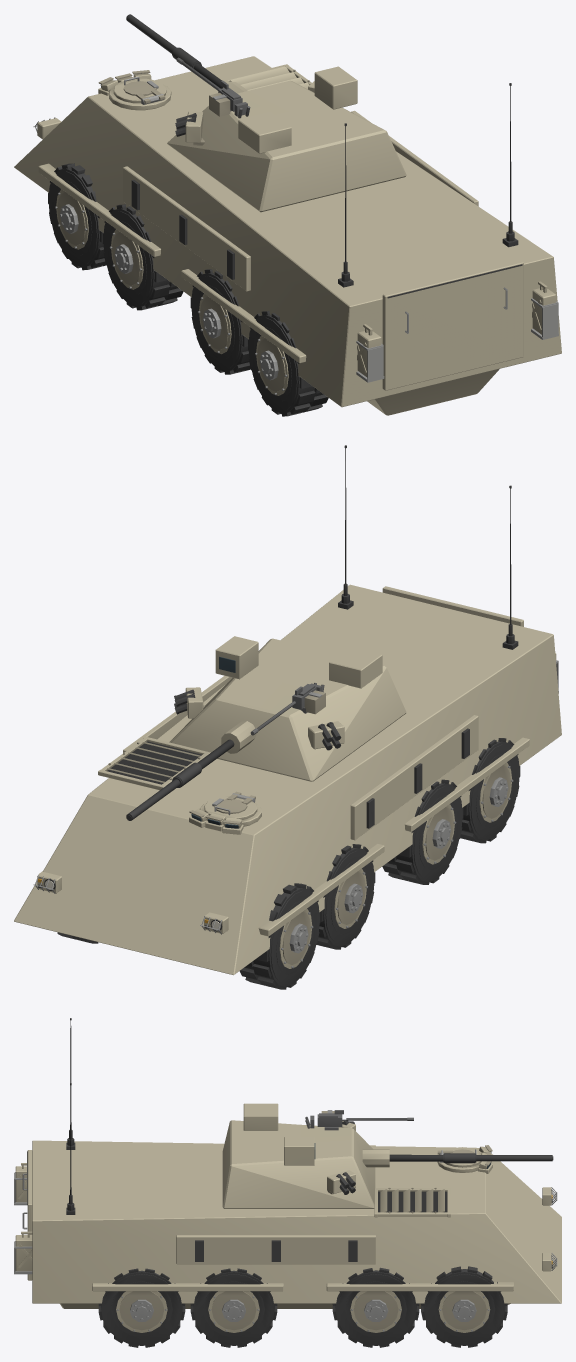
Rendered from usa_ifv_drag.glb.
3 views of the same model, one above another, from view 1: azimuth 30°, elevation 25°; view 2: azimuth 150°, elevation 25°; view 3: azimuth 270°, elevation 25° (orthographic). The views are drawn at different scales.
Parts seen in each view (by area): view 1: body, turret, door, wheel_2, wheel_6, wheel_0, wheel_4, barrel; view 2: body, turret, wheel_0, wheel_4, wheel_6, wheel_2, barrel, door; view 3: body, turret, wheel_1, wheel_3, wheel_5, wheel_7, barrel, door.
Boxes of the visible parts, box(x1,y1,x2,y2) form: body: box(14, 56, 561, 415); turret: box(167, 57, 406, 212); door: box(382, 261, 523, 390); wheel_2: box(102, 204, 183, 310); wheel_6: box(248, 311, 328, 416); wheel_0: box(48, 163, 106, 270); wheel_4: box(190, 269, 250, 374); barrel: box(126, 14, 247, 93); body: box(14, 445, 561, 975); turret: box(169, 636, 406, 781); wheel_0: box(239, 883, 320, 989); wheel_4: box(382, 779, 463, 884); wheel_6: box(460, 738, 520, 843); wheel_2: box(316, 844, 375, 949); barrel: box(126, 721, 256, 820); door: box(382, 586, 523, 626); body: box(14, 1018, 561, 1308); turret: box(222, 1103, 413, 1208); wheel_1: box(421, 1266, 507, 1347); wheel_3: box(332, 1267, 419, 1347); wheel_5: box(190, 1268, 277, 1347); wheel_7: box(98, 1268, 185, 1347); barrel: box(362, 1149, 553, 1167); door: box(22, 1150, 32, 1280).
Size of the model in its own units: 2.88 by 3.65 by 7.13.
